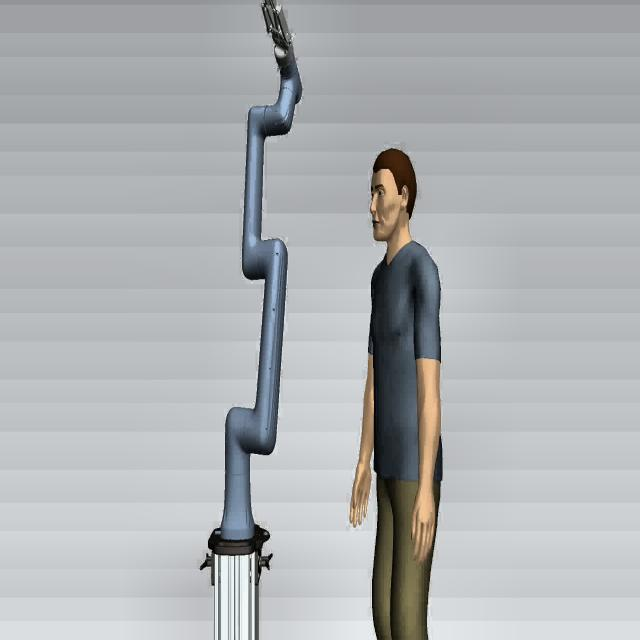robot: (207, 0, 303, 555)
